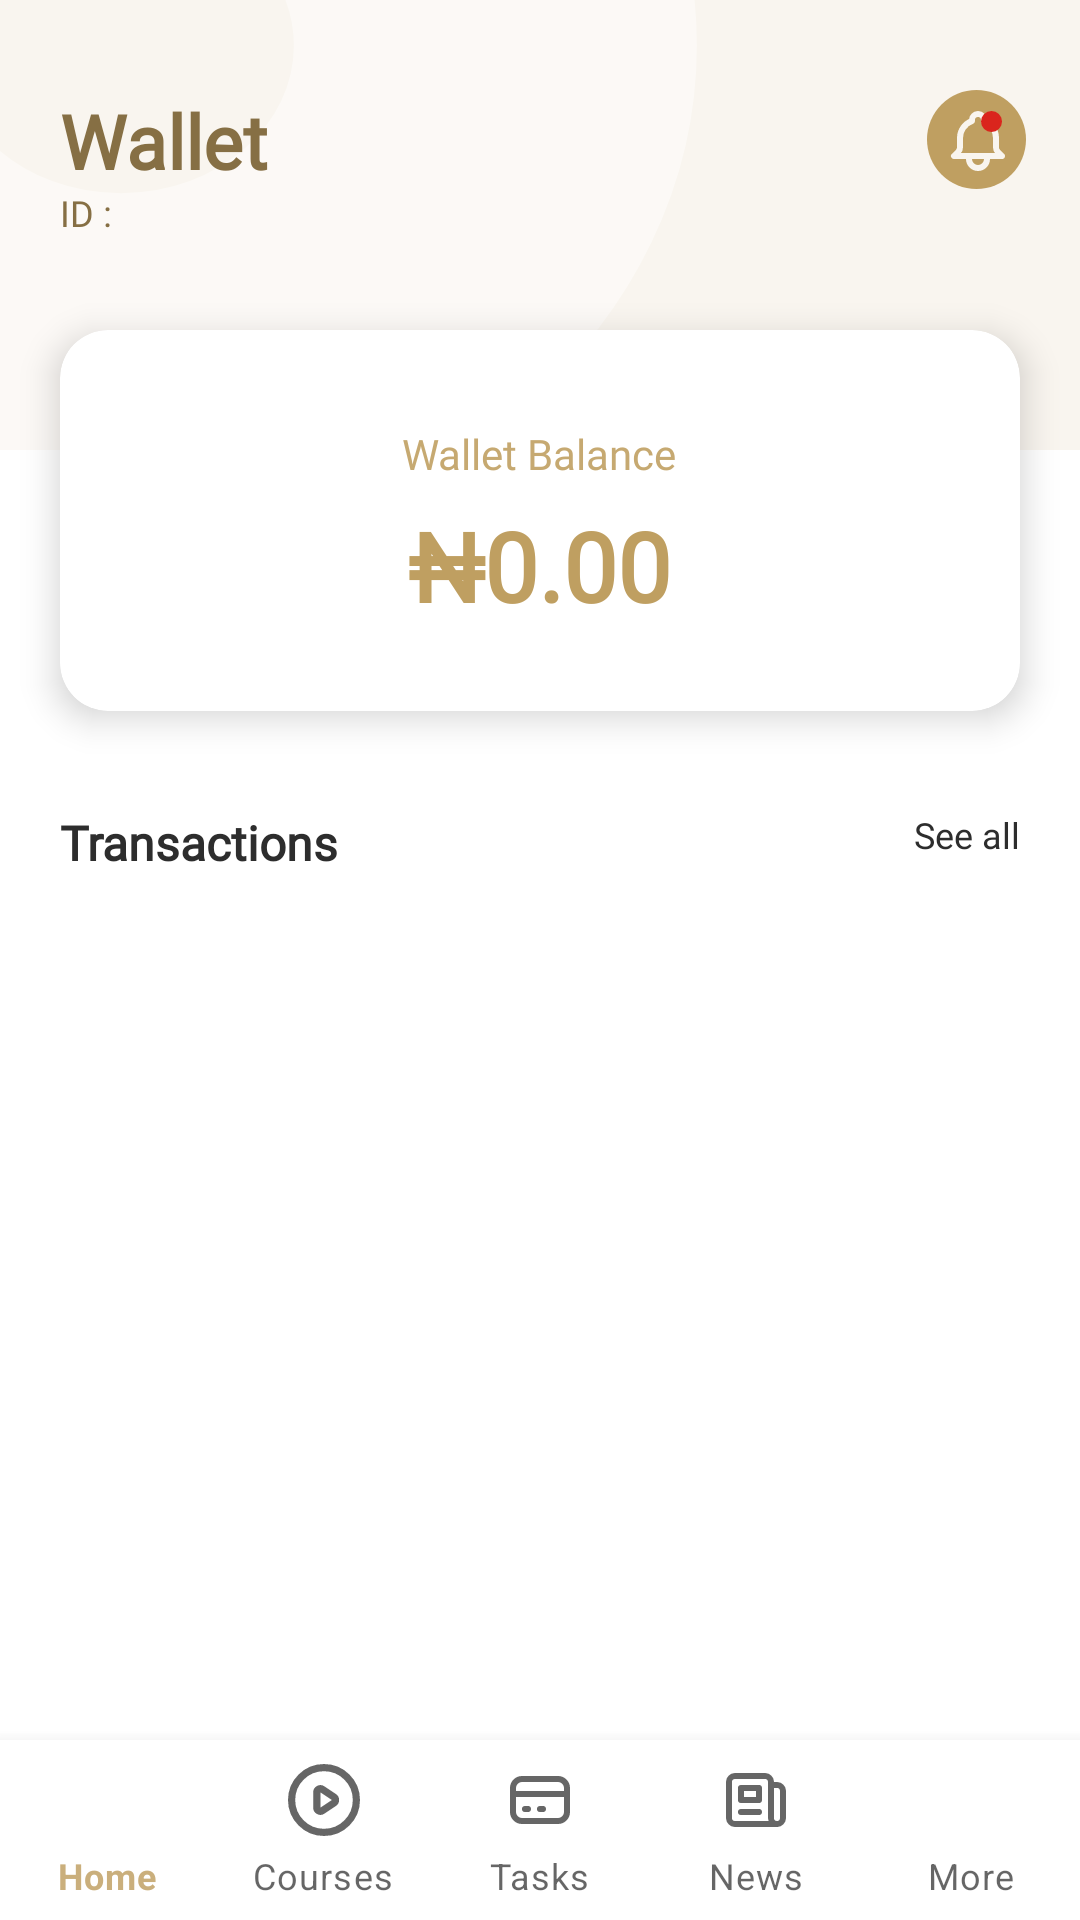

Named icons in this screenshot (1080w x 1920h) and their bounding boxes, (x1, y1, x2, y2):
wallet notification: (927, 90, 1026, 189)
